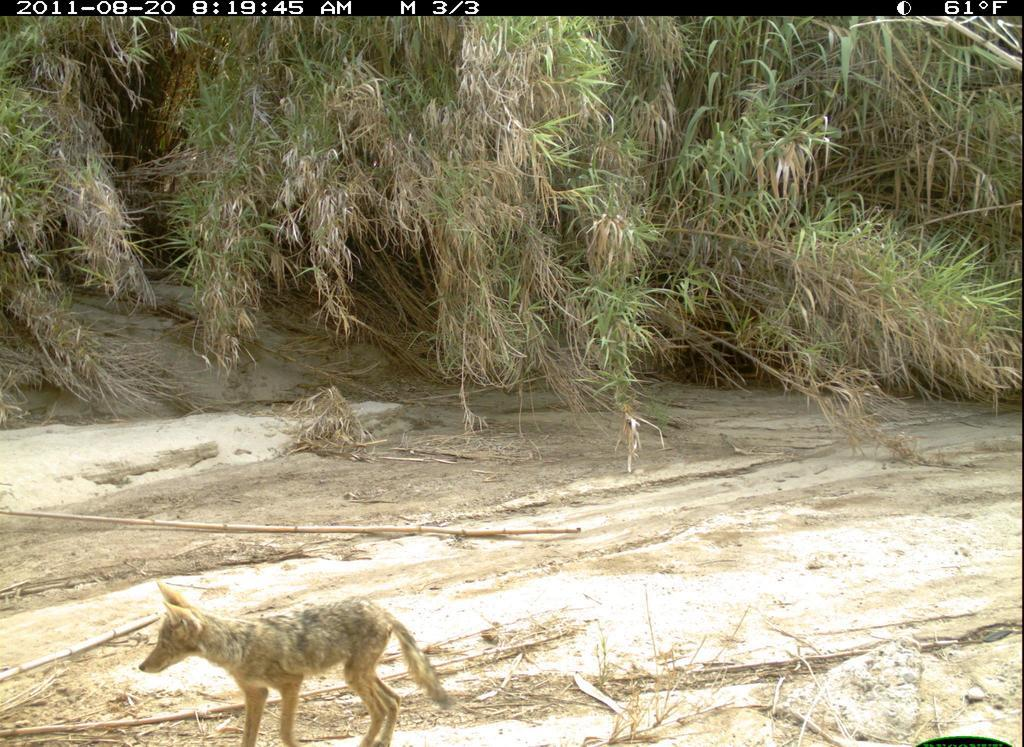coyote: (137, 582, 457, 747)
